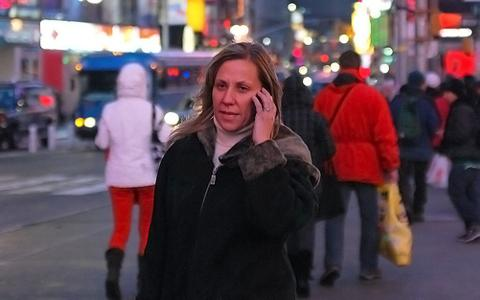person: (145, 41, 349, 300)
